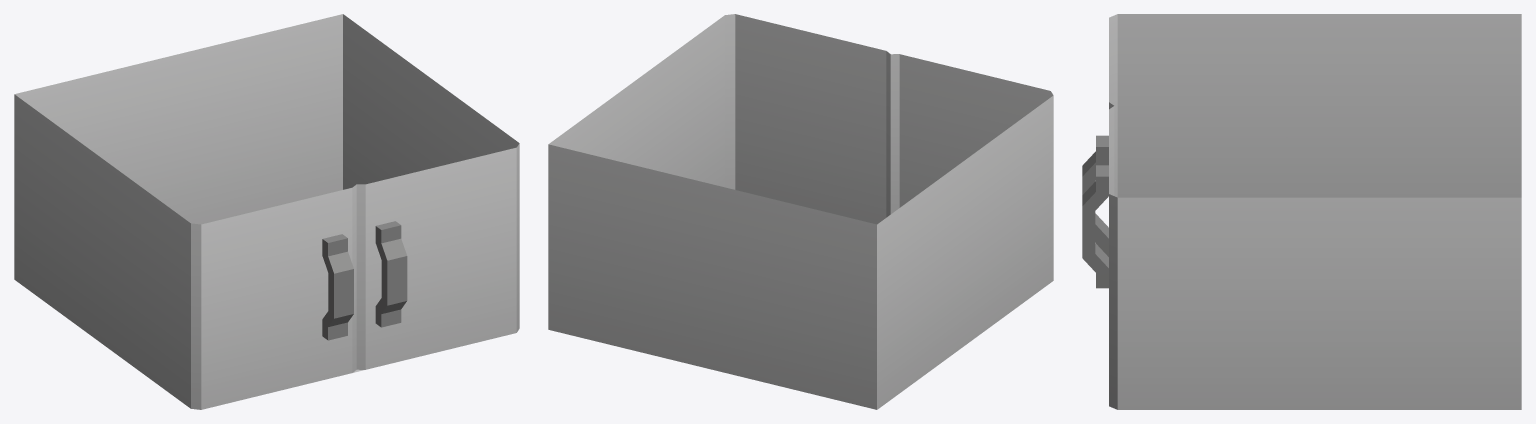
The model's file is Counter_01_v05_C02.fbx.
The picture shows the model from 3 angles, left to right: view 1: azimuth 30°, elevation 25°; view 2: azimuth 150°, elevation 25°; view 3: azimuth 270°, elevation 25°; orthographic projection. The views are drawn at different scales.
Parts seen in each view (by area): view 1: Counter_01_v05_C02; view 2: Counter_01_v05_C02; view 3: Counter_01_v05_C02.
Part boxes in pixels (x1,y1,x2,y2): Counter_01_v05_C02: [14, 14, 519, 409]; Counter_01_v05_C02: [548, 14, 1053, 409]; Counter_01_v05_C02: [1082, 14, 1521, 409].
Size of the model in its own units: 100 by 53.91 by 101.
